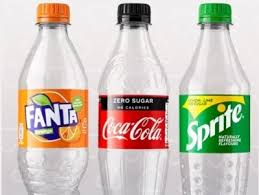HDPE Cap: (37, 3, 70, 17), (199, 3, 232, 17), (118, 3, 152, 16)
HDPE Ring: (117, 17, 152, 23), (199, 18, 232, 23), (36, 18, 71, 22)
PET Bottle: (98, 2, 171, 194), (178, 2, 251, 194), (17, 2, 89, 194)
PVC Label: (179, 94, 251, 153), (17, 89, 88, 148), (99, 94, 171, 149)
